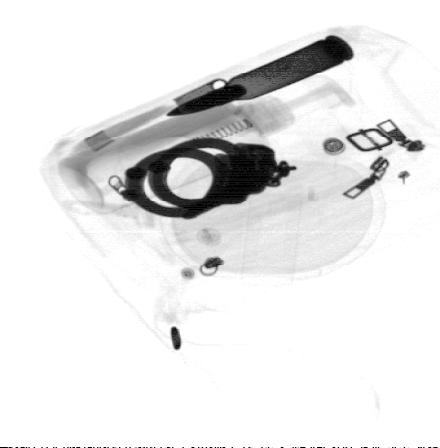Bullet: (163, 34, 355, 118)
HandCuffs: (120, 137, 296, 220)
